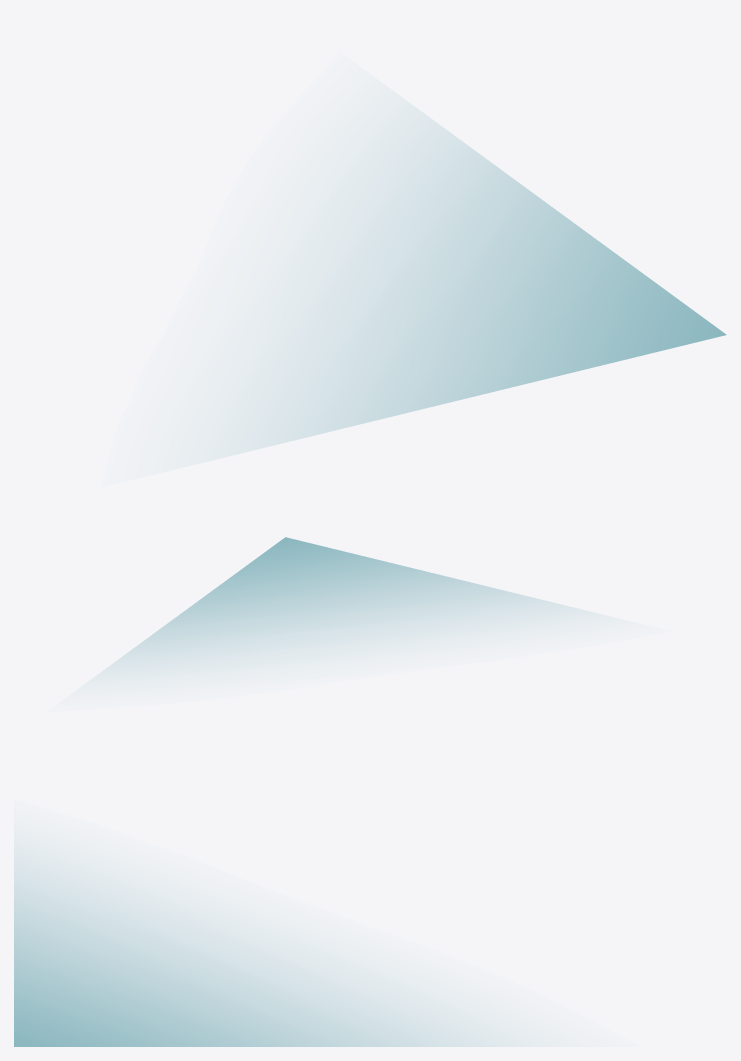
3 views of the same model, one above another, from view 1: azimuth 30°, elevation 25°; view 2: azimuth 150°, elevation 25°; view 3: azimuth 270°, elevation 25° (orthographic). The views are drawn at different scales.
Visible parts, largest first — view 1: city; view 2: city; view 3: city.
Part boxes in pixels (x1,y1,x2,y2): city: (231, 110, 726, 454); city: (96, 537, 590, 676); city: (14, 850, 514, 1046).
Bounding box in the file's own units: 400 × 0 × 426.
